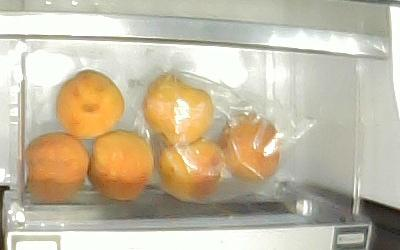peach: (85, 128, 155, 200), (56, 69, 125, 139), (23, 130, 90, 201)
peach_vinyl: (141, 73, 213, 145), (217, 110, 280, 182), (158, 137, 223, 199)
